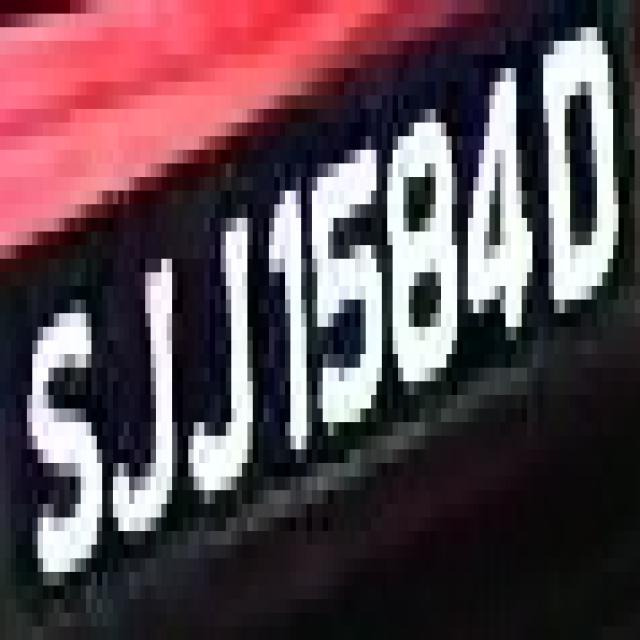1: (258, 164, 317, 476)
4: (436, 27, 532, 354)
5: (306, 109, 392, 463)
8: (382, 95, 473, 436)
D: (532, 0, 624, 354)
J: (92, 204, 194, 572), (167, 150, 258, 544)
S: (32, 272, 108, 599)
